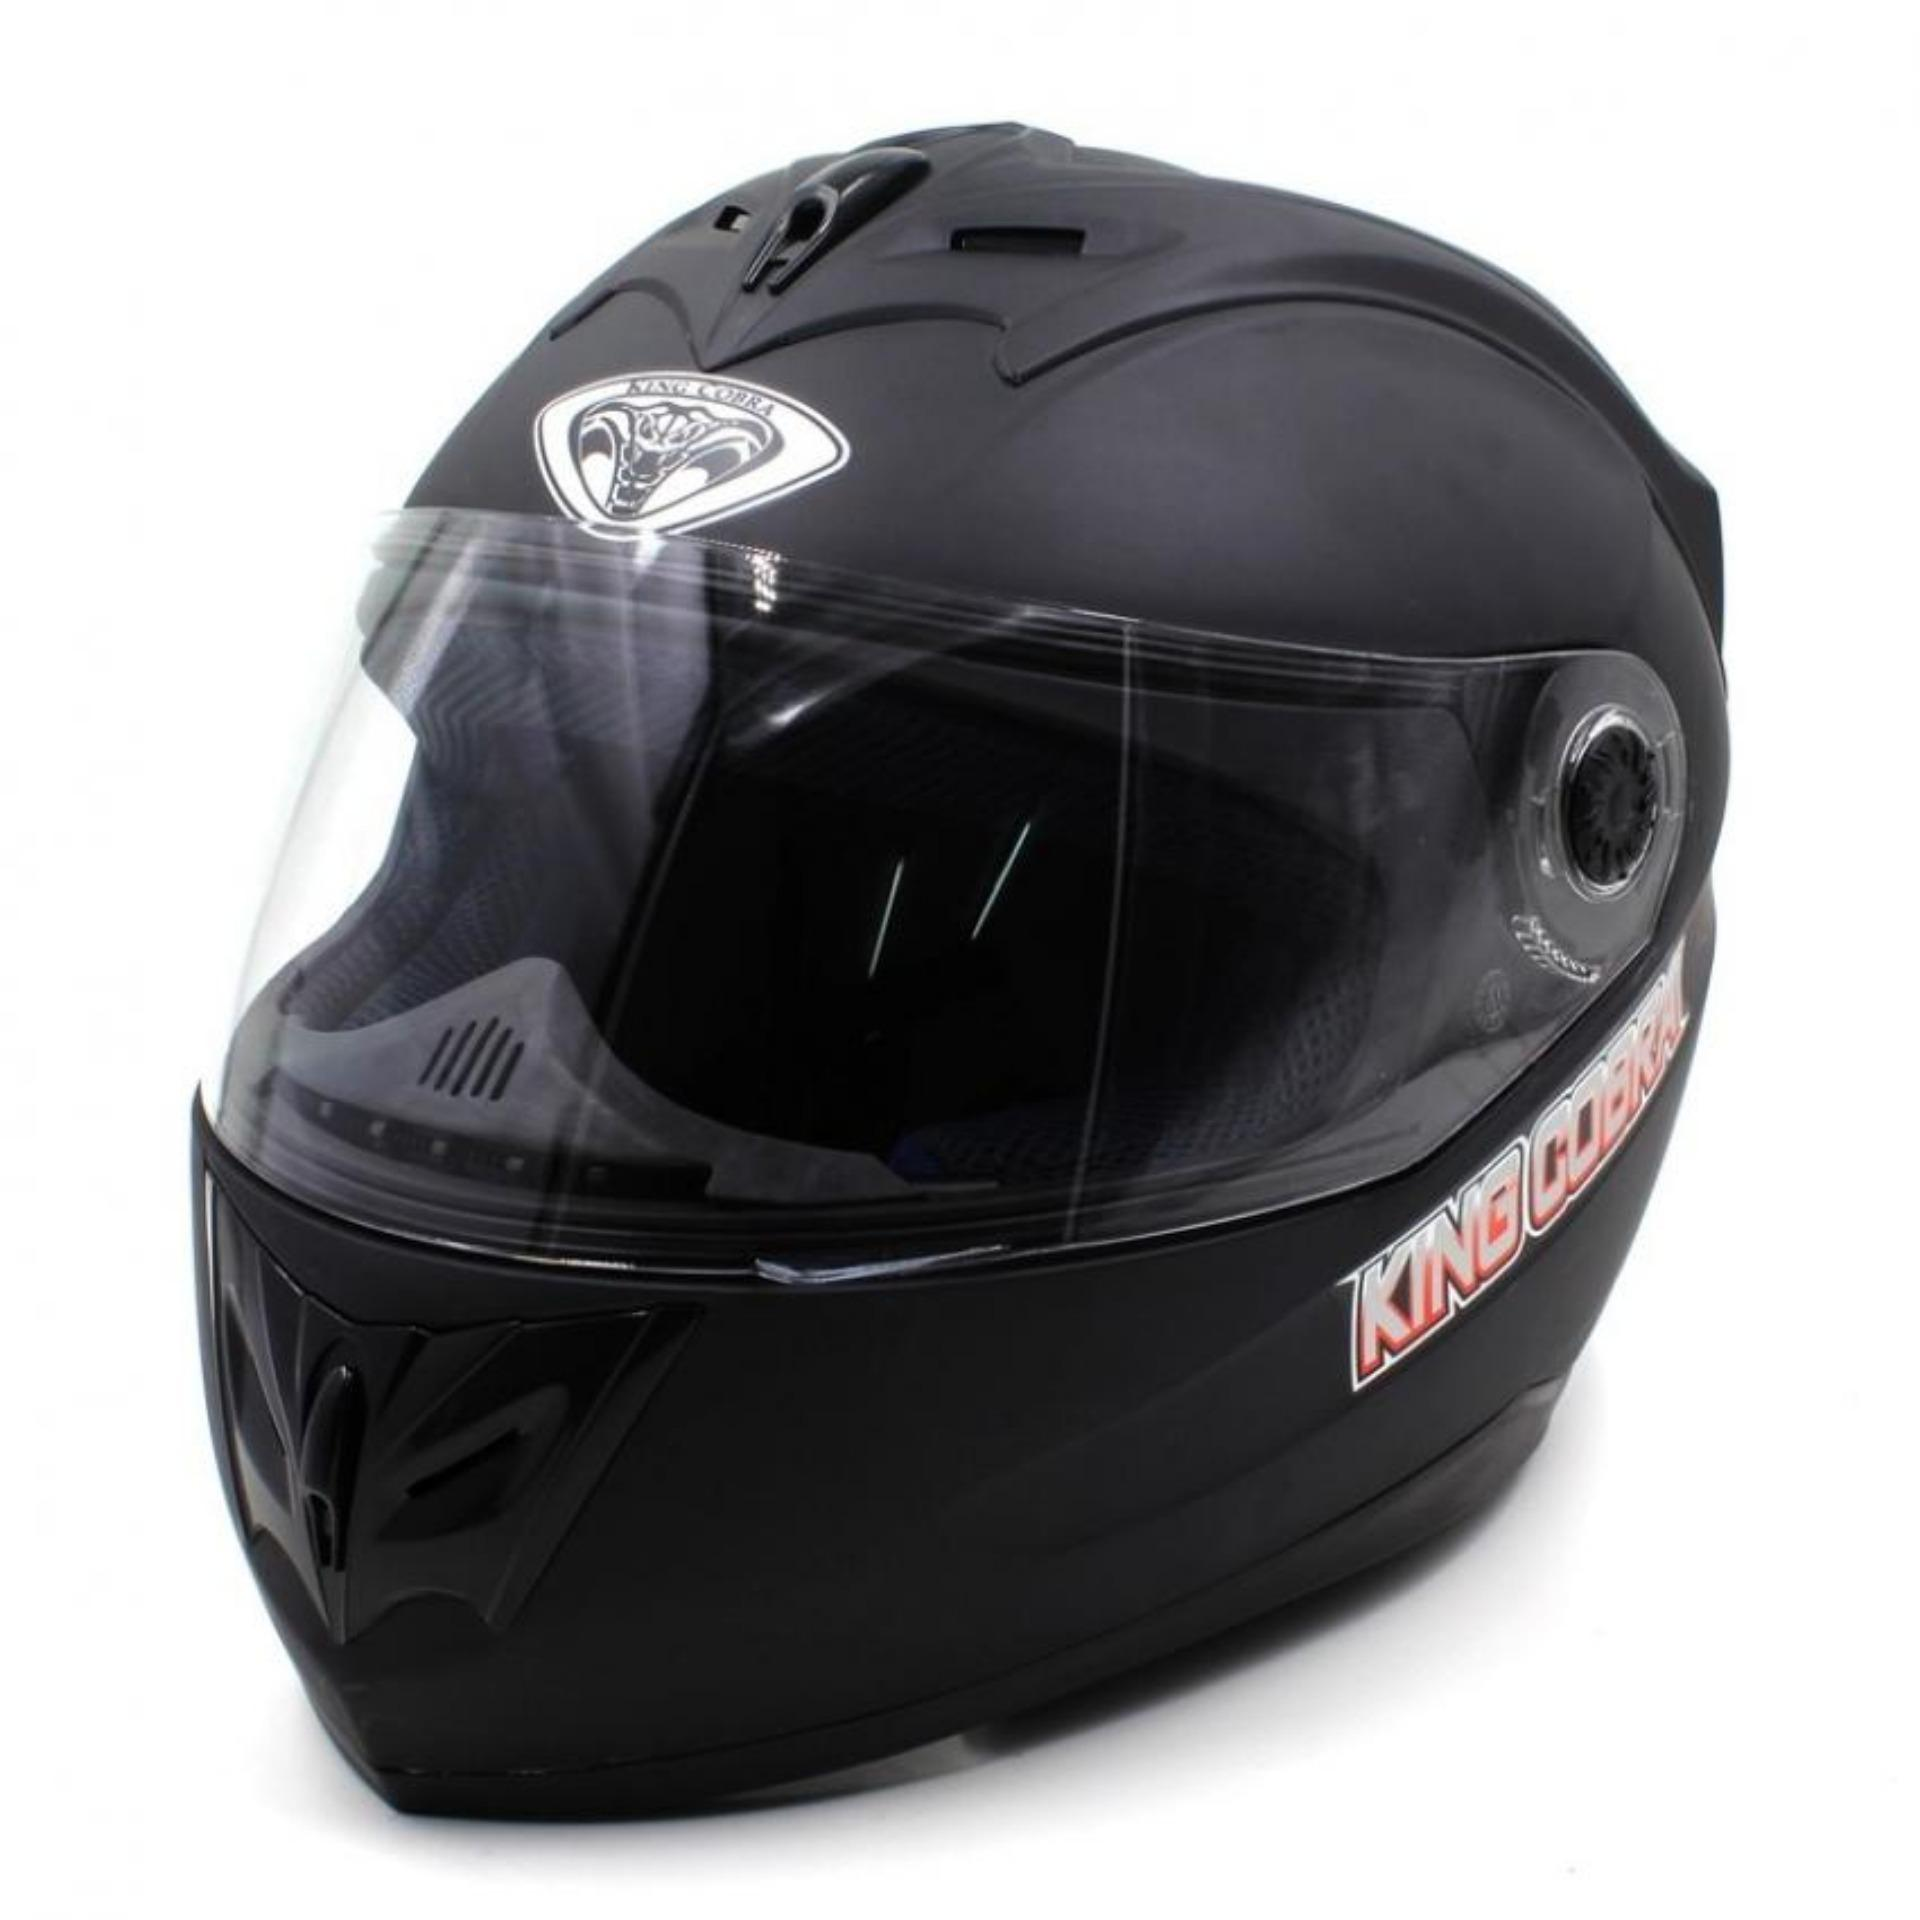helmet: (137, 70, 1830, 1878)
